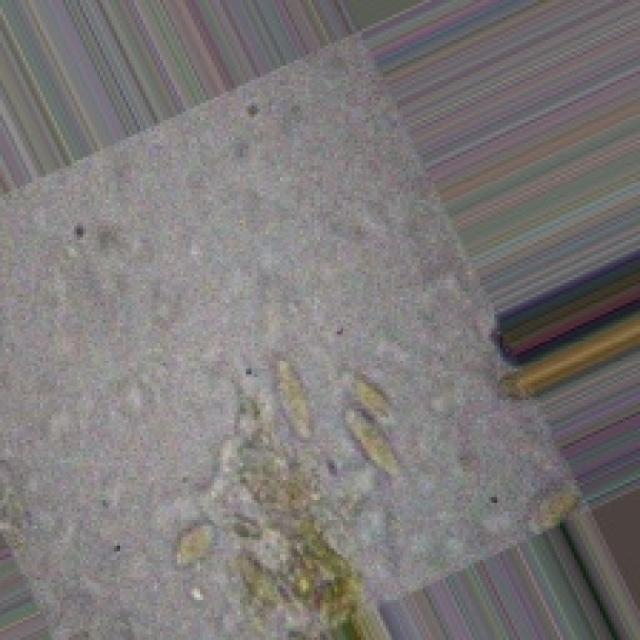Amoeba: (0, 29, 583, 637)
